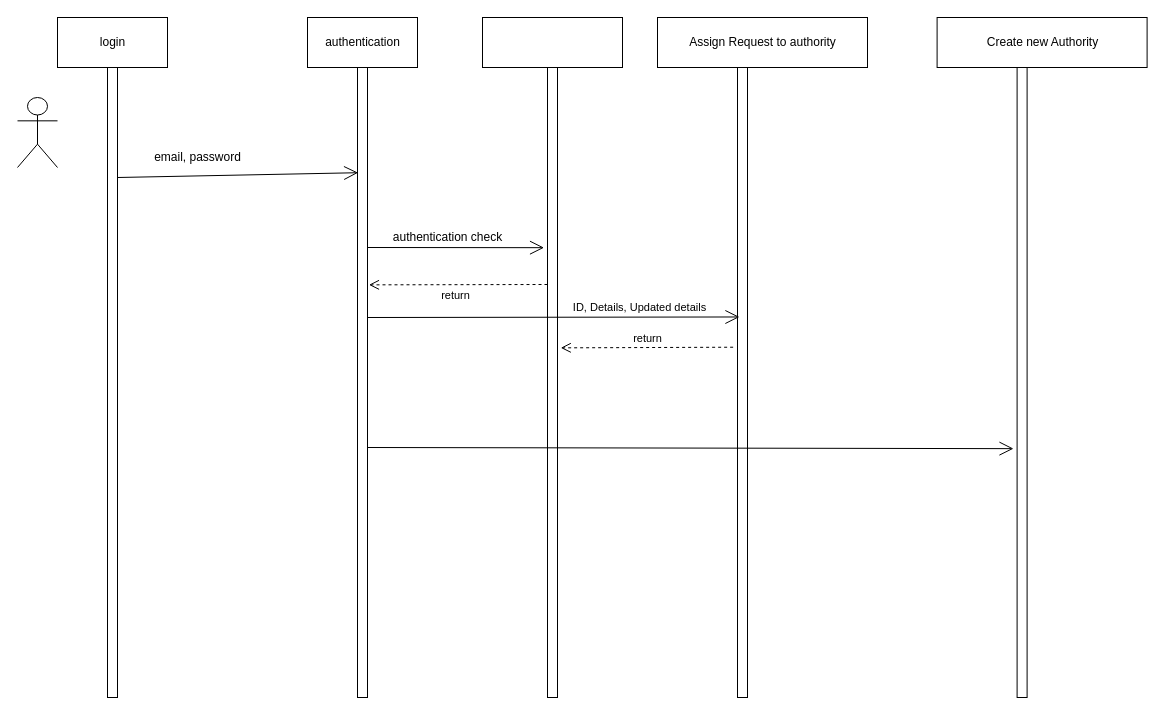
Image size: 1165x715. Some labels were removed from this diagram. Here are the shapes that lost their labels. From the top down, the centre of each, then its label:
At point (552, 42): "Check New Request".
At point (37, 132): "Admin".
